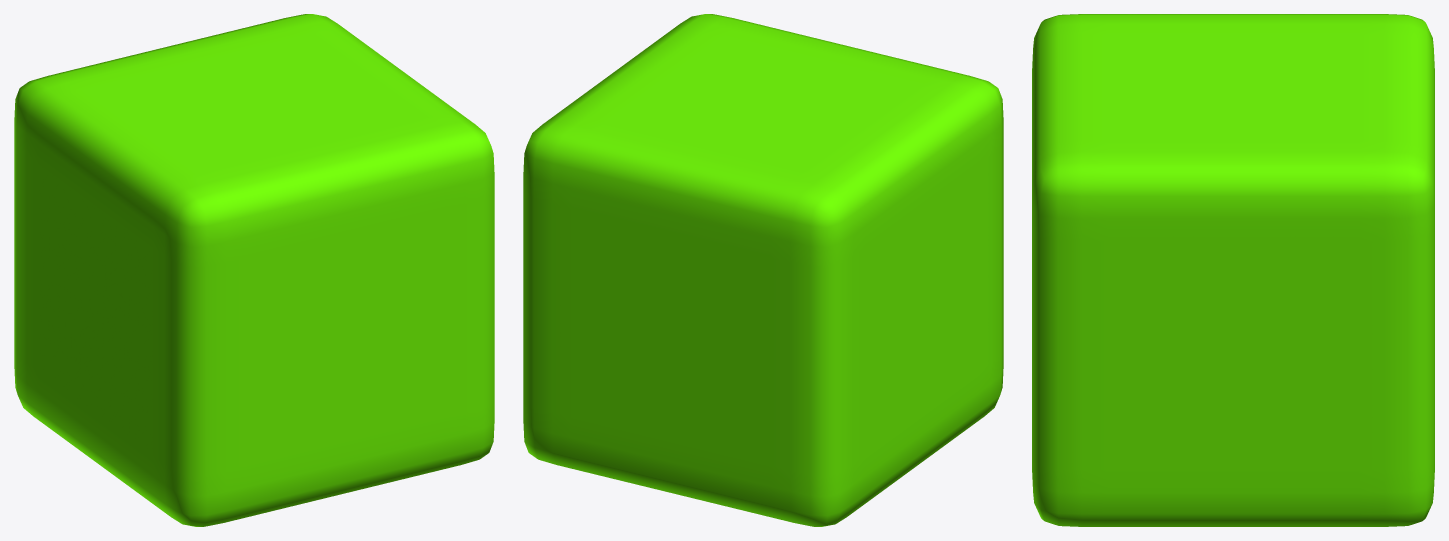
File: slime_1.glb
3 views of the same model, side by side, from view 1: azimuth 30°, elevation 25°; view 2: azimuth 150°, elevation 25°; view 3: azimuth 270°, elevation 25° (orthographic). The views are drawn at different scales.
Parts seen in each view (by area): view 1: Cube_0; view 2: Cube_0; view 3: Cube_0.
Boxes of the visible parts, x1=… form: Cube_0: x1=14, y1=14, x2=494, y2=526; Cube_0: x1=523, y1=14, x2=1003, y2=526; Cube_0: x1=1032, y1=14, x2=1434, y2=526.
Size of what is drawn, in the model's own units: 2 by 2 by 2.
